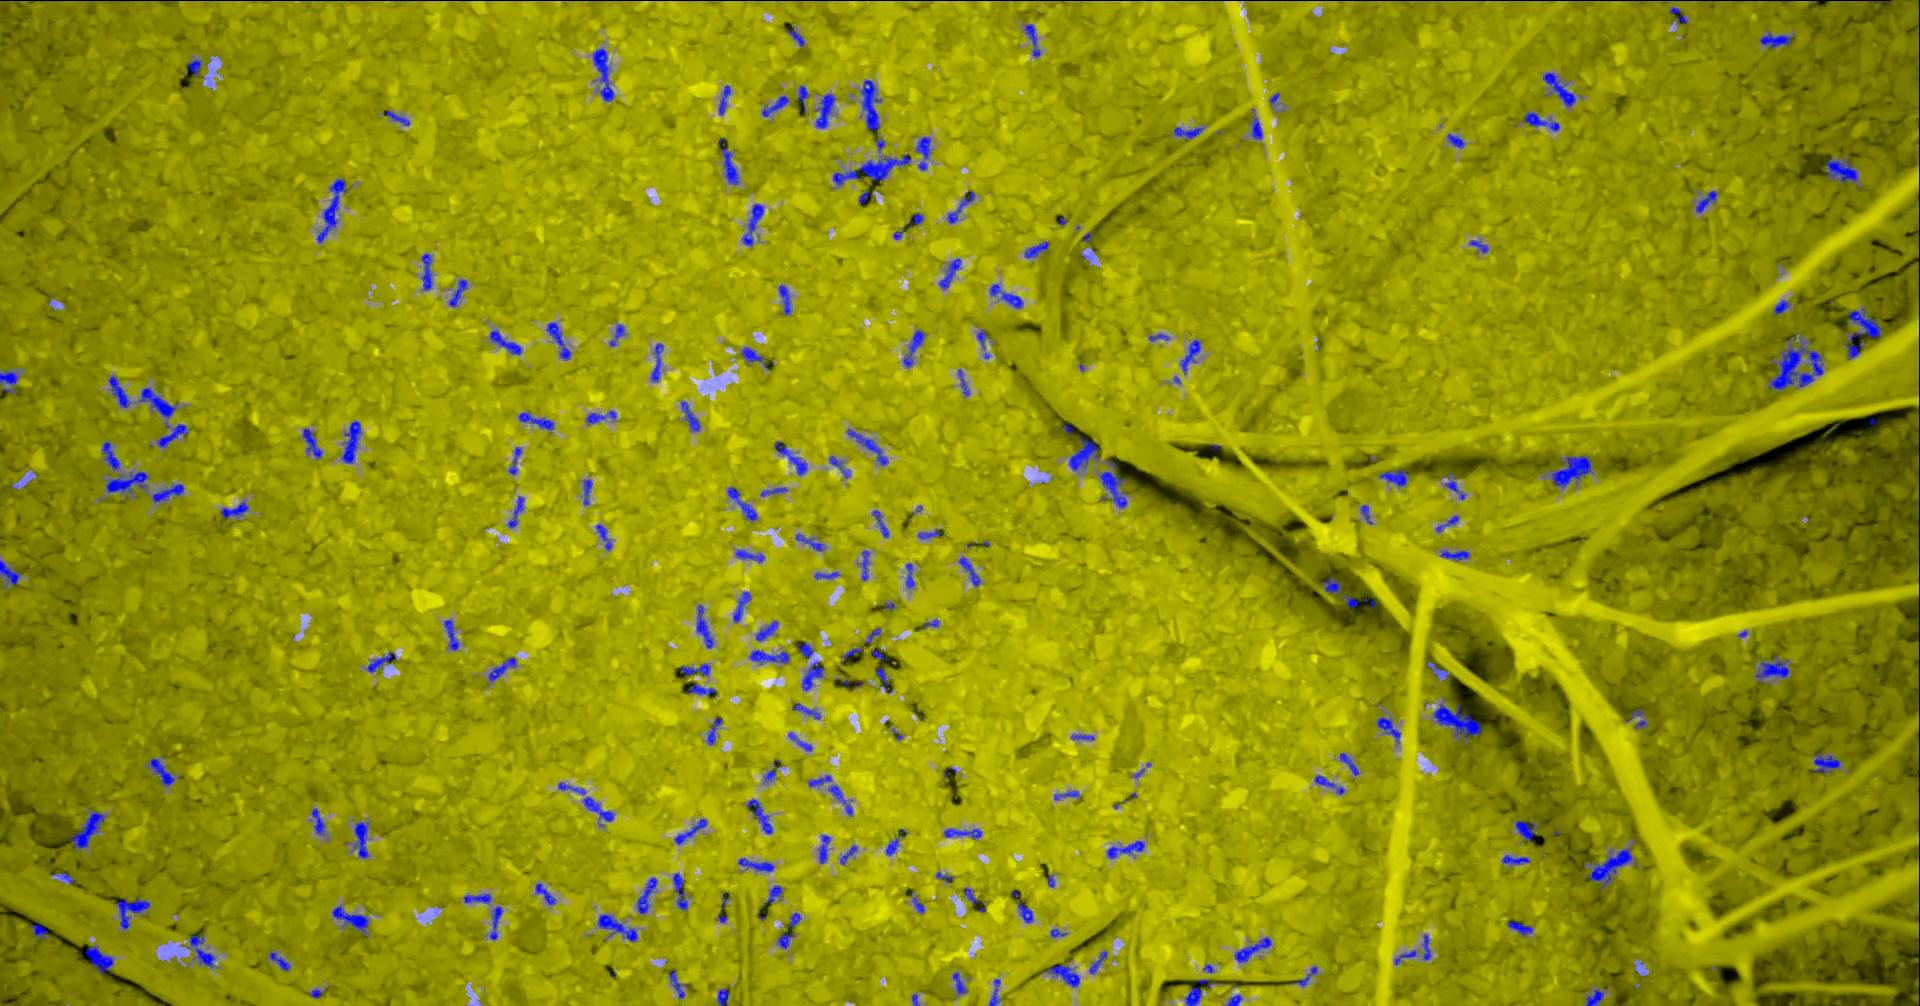ant: (832, 152, 910, 185), (557, 781, 615, 826), (1583, 847, 1630, 890), (1844, 307, 1882, 359), (316, 178, 345, 243), (1432, 702, 1481, 738), (137, 387, 177, 427), (846, 428, 888, 465), (69, 810, 105, 848), (1550, 455, 1592, 486), (592, 48, 615, 102), (597, 913, 637, 941), (775, 441, 808, 475), (860, 79, 881, 130), (1542, 72, 1575, 105), (1068, 436, 1098, 471), (116, 897, 149, 929), (1754, 654, 1789, 683), (331, 904, 367, 934), (728, 486, 757, 521), (1098, 471, 1126, 507), (745, 798, 772, 835), (1233, 936, 1271, 962), (185, 934, 215, 967), (717, 137, 738, 184), (1185, 979, 1222, 1005), (105, 471, 149, 493), (946, 191, 974, 224), (742, 203, 763, 245), (546, 323, 570, 359), (902, 329, 924, 367), (673, 818, 707, 843), (84, 945, 113, 974), (1825, 158, 1858, 183), (342, 420, 361, 464), (149, 757, 178, 785), (777, 912, 800, 948), (989, 283, 1022, 307), (1045, 964, 1079, 987), (814, 93, 836, 128), (695, 605, 712, 648), (489, 330, 521, 354), (1523, 111, 1559, 131), (636, 876, 657, 913), (1178, 339, 1200, 373), (156, 423, 187, 447), (828, 785, 852, 815), (488, 655, 516, 681), (108, 375, 130, 406), (1011, 890, 1032, 922), (1106, 840, 1144, 857), (957, 556, 980, 586), (938, 258, 960, 288), (518, 412, 552, 431), (801, 661, 823, 690), (302, 428, 323, 459), (742, 345, 767, 370), (1377, 716, 1399, 743), (352, 821, 368, 857), (1378, 467, 1410, 486), (151, 483, 183, 502), (731, 591, 750, 622), (1444, 471, 1465, 499), (749, 649, 789, 664), (366, 652, 395, 672), (1314, 774, 1343, 794), (1759, 30, 1792, 48), (507, 495, 524, 528), (761, 95, 789, 116), (1023, 23, 1040, 57), (672, 873, 687, 909), (668, 969, 687, 998), (0, 560, 22, 586), (681, 400, 698, 431), (737, 857, 775, 871), (916, 136, 931, 170), (102, 441, 119, 470), (1813, 752, 1839, 772), (448, 279, 467, 306), (220, 500, 248, 518), (795, 533, 823, 551), (828, 455, 850, 478), (1293, 965, 1317, 986), (650, 343, 663, 381), (443, 619, 458, 650), (1515, 819, 1537, 841), (535, 882, 555, 904), (875, 666, 891, 694), (792, 702, 820, 719), (706, 716, 723, 744), (787, 732, 811, 751), (871, 511, 888, 537), (1695, 191, 1716, 212), (756, 620, 777, 640), (1426, 661, 1449, 680), (1338, 752, 1357, 775), (1088, 950, 1107, 973), (489, 906, 502, 939), (268, 951, 290, 970), (778, 285, 792, 314), (585, 410, 615, 424), (1435, 514, 1458, 532), (596, 523, 611, 550), (763, 760, 781, 782), (311, 808, 326, 835), (1023, 241, 1048, 258), (382, 111, 410, 124), (717, 85, 730, 116), (679, 663, 710, 676), (684, 683, 715, 696), (943, 828, 982, 838), (1506, 920, 1531, 935), (0, 370, 17, 392), (422, 253, 432, 290), (735, 549, 764, 561), (839, 843, 857, 864), (841, 647, 862, 663), (977, 330, 989, 358), (508, 446, 521, 474), (818, 835, 830, 862), (1669, 6, 1688, 24), (988, 978, 1001, 1005), (952, 970, 966, 995), (787, 25, 804, 46), (1583, 988, 1604, 1005), (1173, 127, 1203, 138), (608, 324, 623, 345), (764, 885, 782, 903), (1321, 577, 1340, 593), (957, 370, 969, 396), (1393, 950, 1415, 964), (1440, 550, 1469, 560), (184, 58, 201, 76), (29, 922, 47, 939), (1250, 116, 1262, 138), (1630, 708, 1646, 727), (808, 774, 830, 786), (797, 85, 808, 113), (1501, 854, 1529, 864), (910, 892, 924, 912), (463, 893, 491, 903), (863, 627, 880, 644), (905, 212, 923, 227), (1469, 239, 1488, 253), (1773, 298, 1789, 314), (796, 641, 813, 657), (759, 486, 787, 495), (963, 887, 977, 904), (582, 479, 590, 506), (1053, 790, 1079, 799), (1360, 504, 1371, 525), (861, 550, 869, 580), (1448, 133, 1464, 147), (905, 563, 914, 588), (917, 528, 938, 539), (885, 838, 898, 855), (1342, 594, 1357, 607), (53, 873, 72, 883), (1422, 934, 1430, 959), (717, 988, 728, 1005), (813, 572, 838, 578), (1225, 995, 1241, 1005), (1070, 734, 1095, 741)
